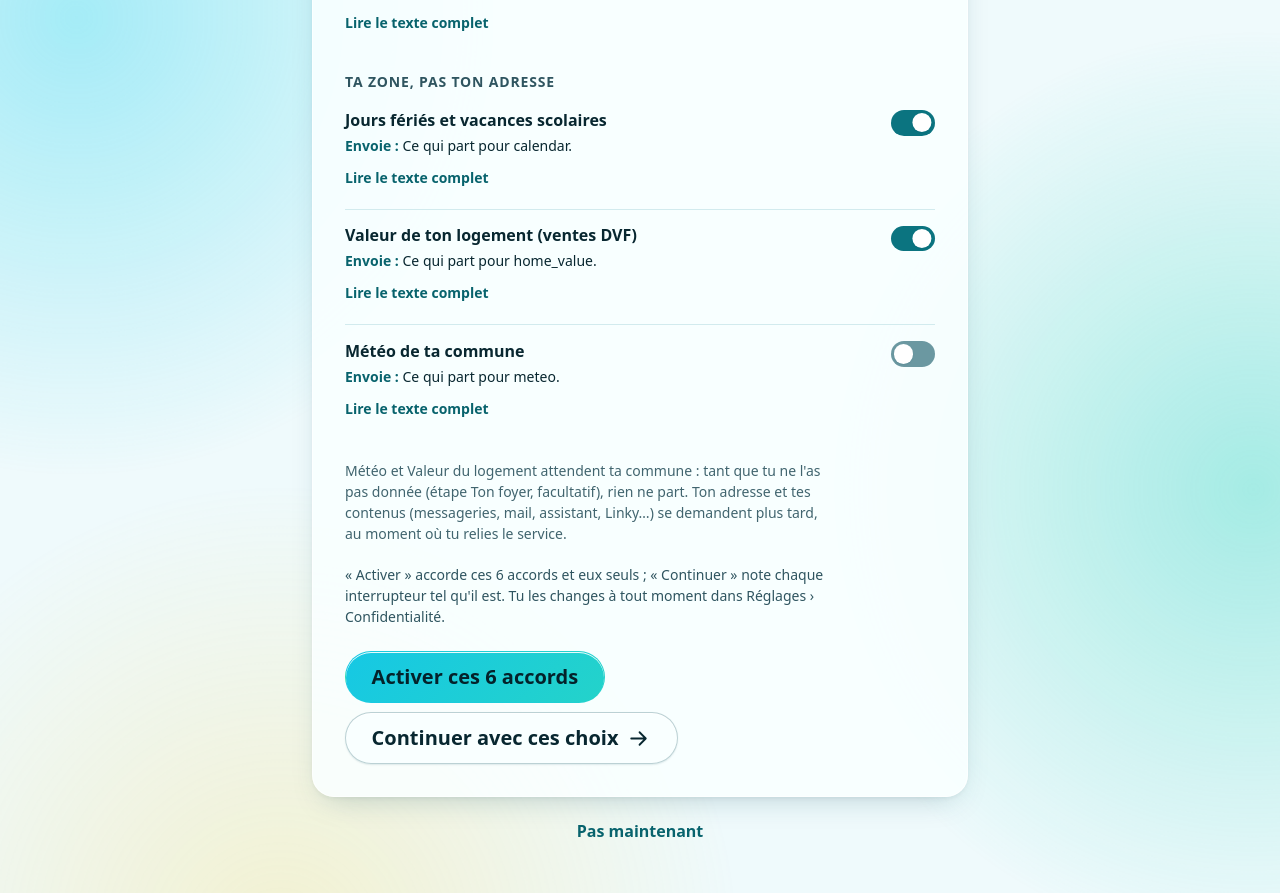
Test: tes accords › the count comes from the server: nothing new granted, no « 6 accords donnés »
The image size is (1280, 893).
(page scrolled)
Click the button "Activer ces 6 accords" at point(475, 677), box [345, 651, 605, 703]
(page scrolled)
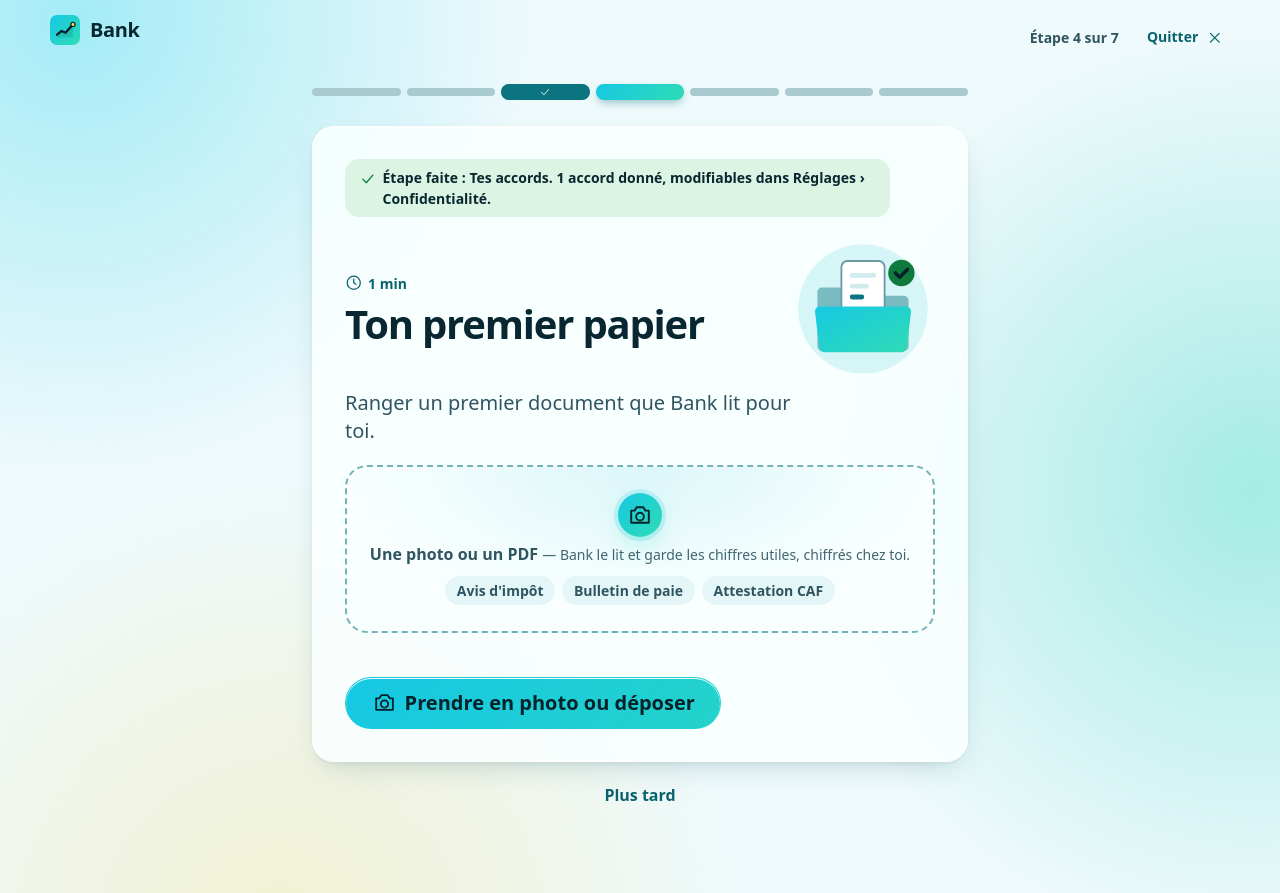
expect the element with class "journey-flash" shows "1 accord donné,": met, box [382, 168, 865, 208]
